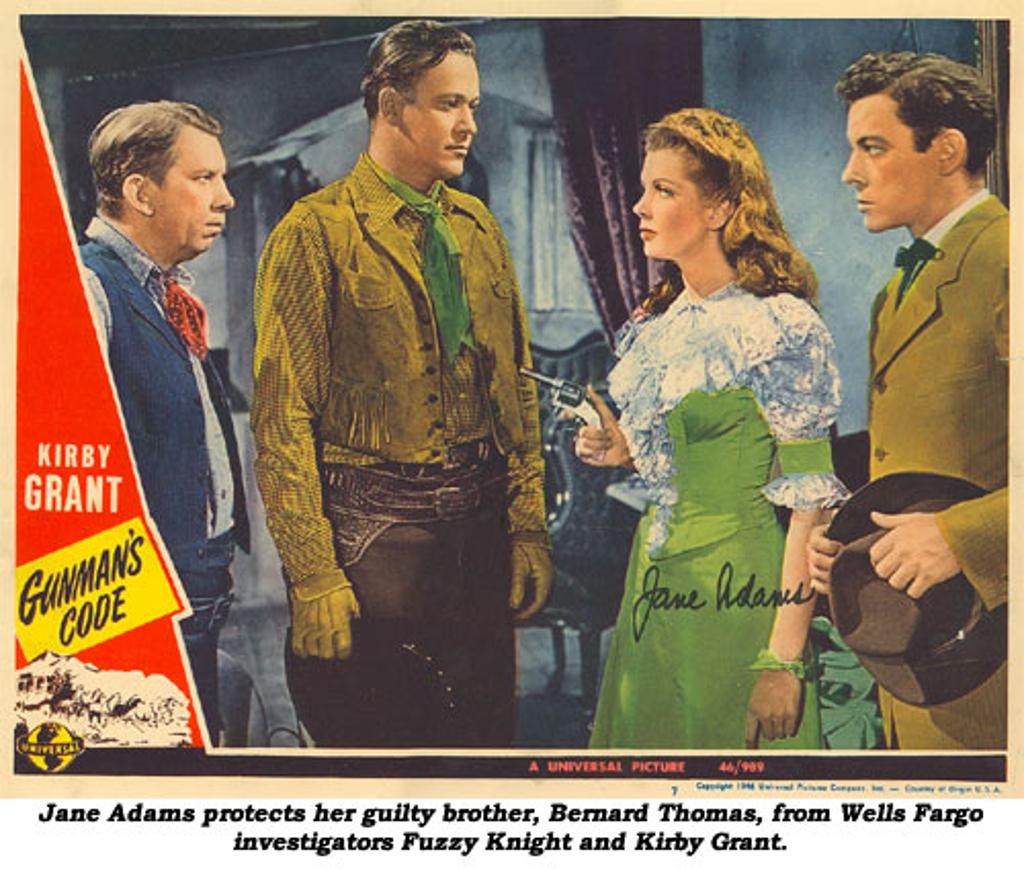face: (148, 120, 232, 250), (410, 56, 478, 178), (850, 100, 908, 226), (634, 144, 702, 250)
